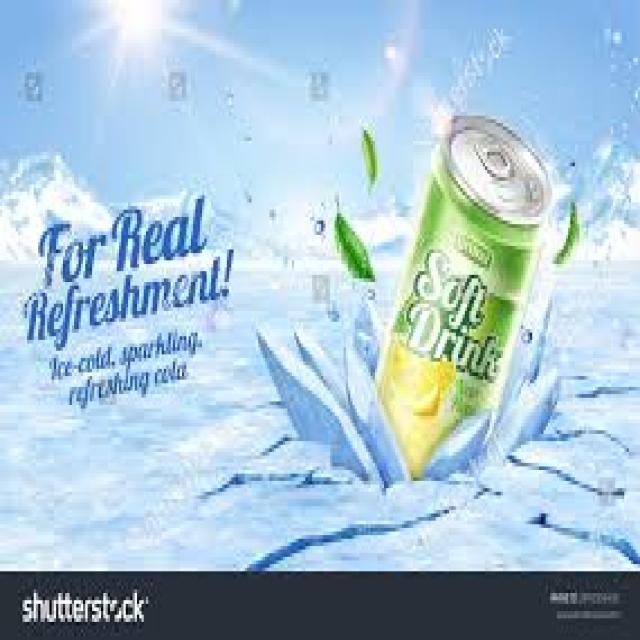Cans: (373, 90, 557, 496)
